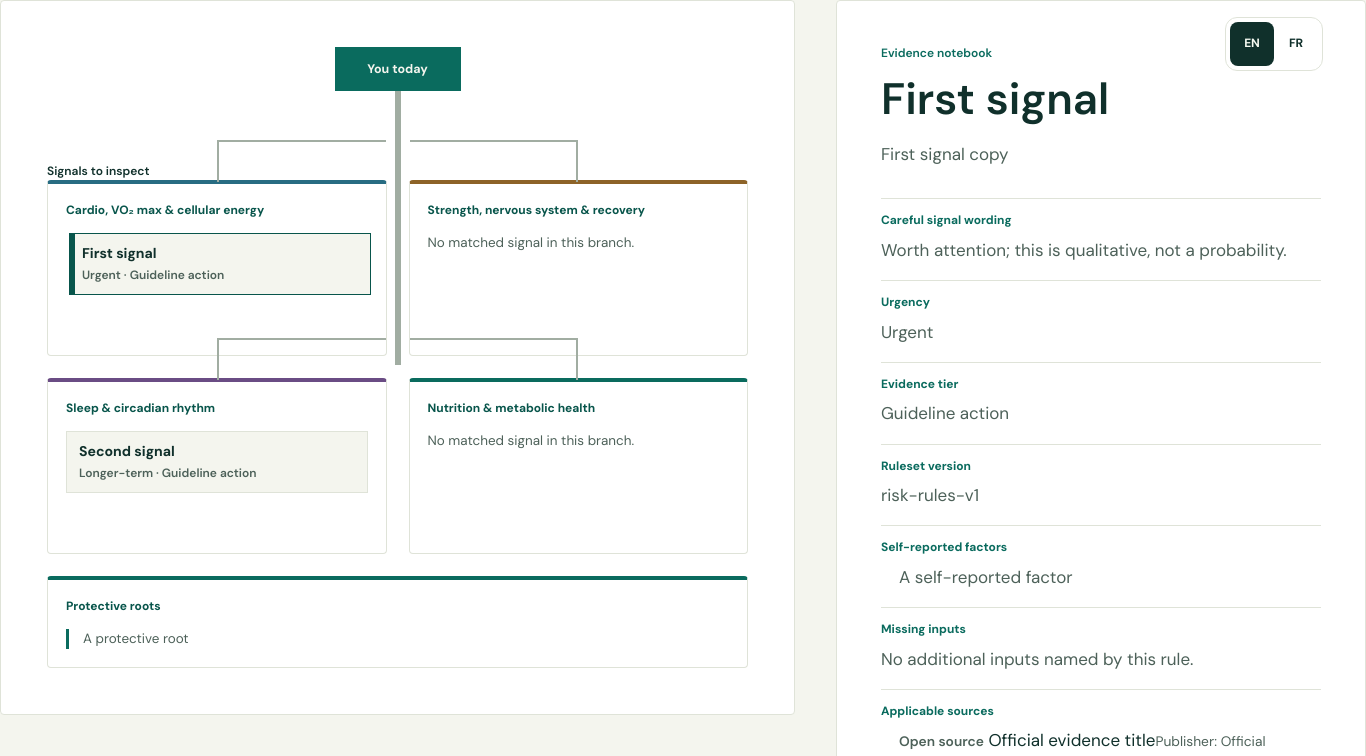
Test: keeps the selected evidence leaf while localizing ledger and missing-question copy
The image size is (1366, 756).
Click the button "Second signal Longer-term · Guideline action".
click(217, 462)  # box [66,431,368,493]
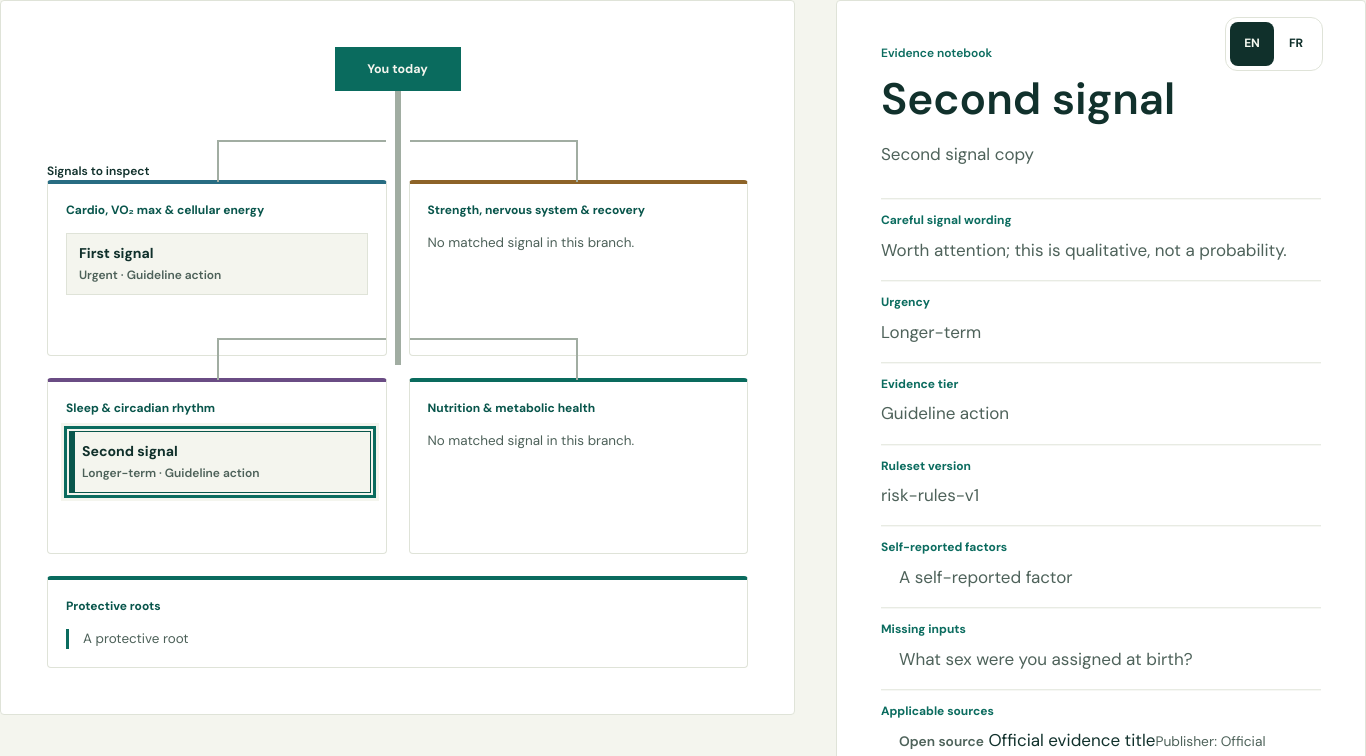
Expected: the button "Second signal Longer-term · Guideline action" is pressed, [69,431,370,493]
Click the button with aria-label "Français".
click(1296, 44)  # box [1274,22,1318,66]
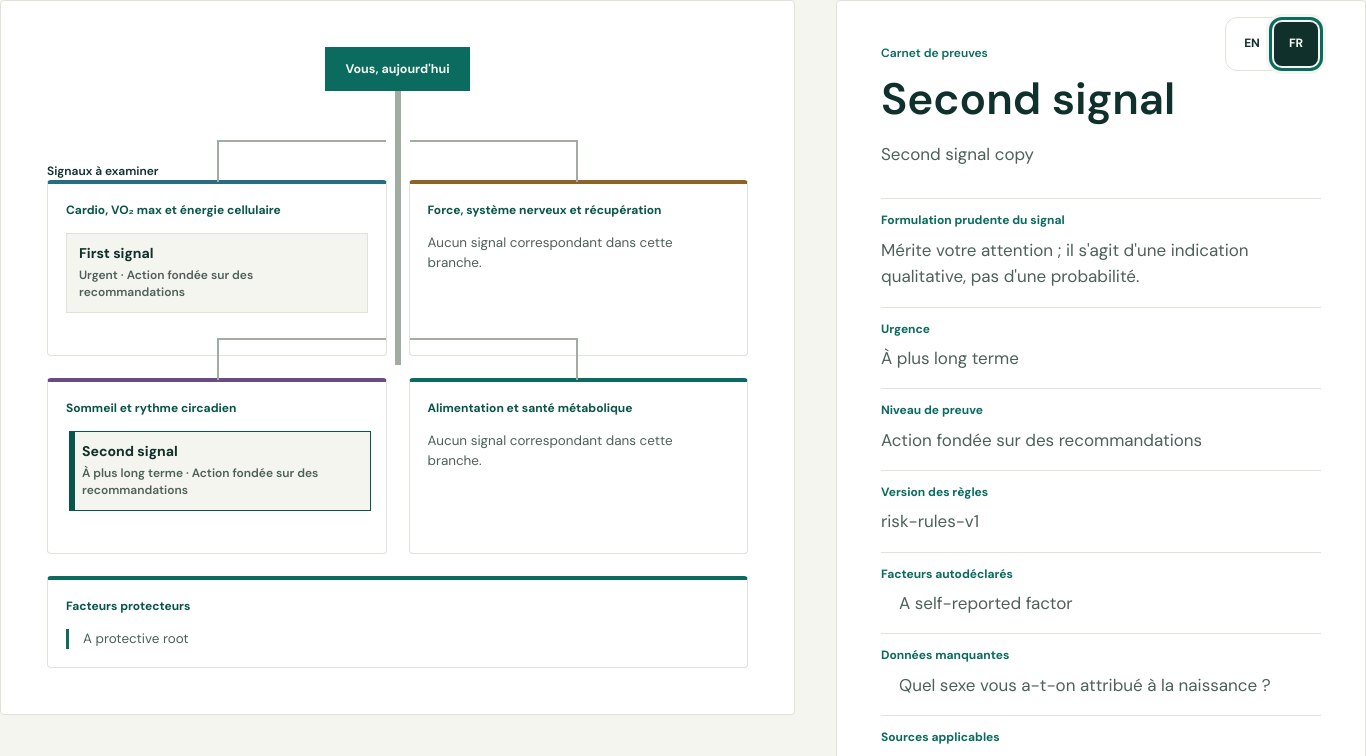
Expected: the text "Carnet de preuves" is shown, [881,45,988,61]
Expected: the text "Version des règles" is shown, [881,484,988,500]
Expected: the text "Action fondée sur des recommandations" is shown, [881,429,1202,451]
